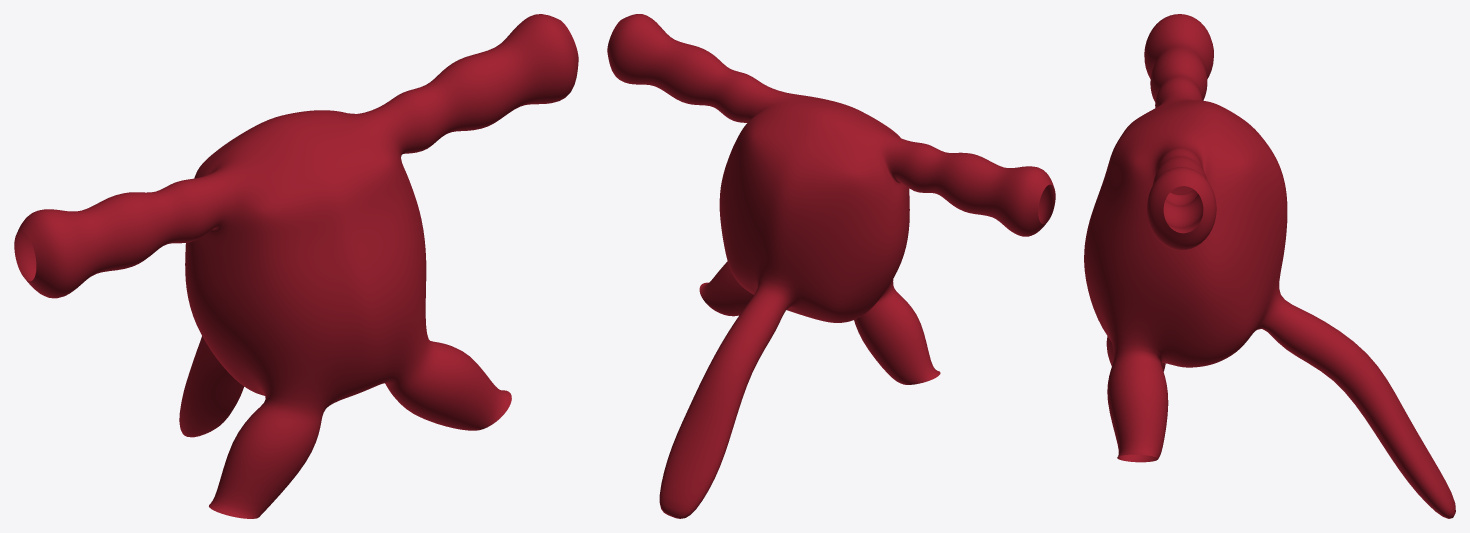
Rendered from corpsSingeRouge.gltf.
The picture shows the model from 3 angles, left to right: view 1: azimuth 30°, elevation 25°; view 2: azimuth 150°, elevation 25°; view 3: azimuth 270°, elevation 25°; orthographic projection. The views are drawn at different scales.
Visible parts, largest first — view 1: Roundcube.028; view 2: Roundcube.028; view 3: Roundcube.028.
Boxes of the visible parts, x1,y1,x2,y2 form: Roundcube.028: (14, 14, 578, 518); Roundcube.028: (607, 14, 1055, 518); Roundcube.028: (1084, 14, 1455, 518).
Size of the model in its own units: 4.27 by 3.56 by 2.76.
